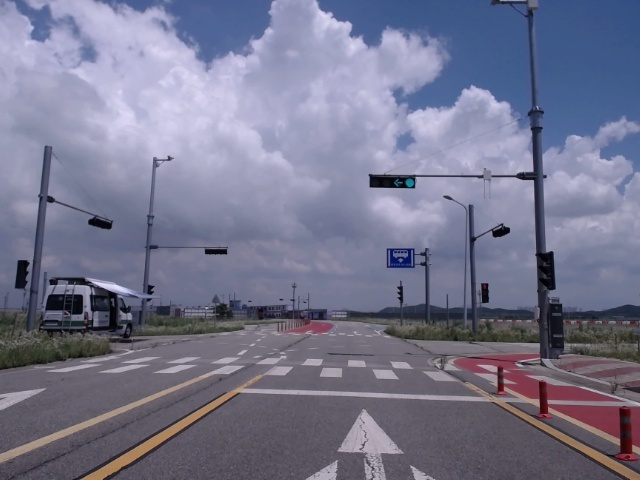all_green_4: (369, 176, 414, 186)
